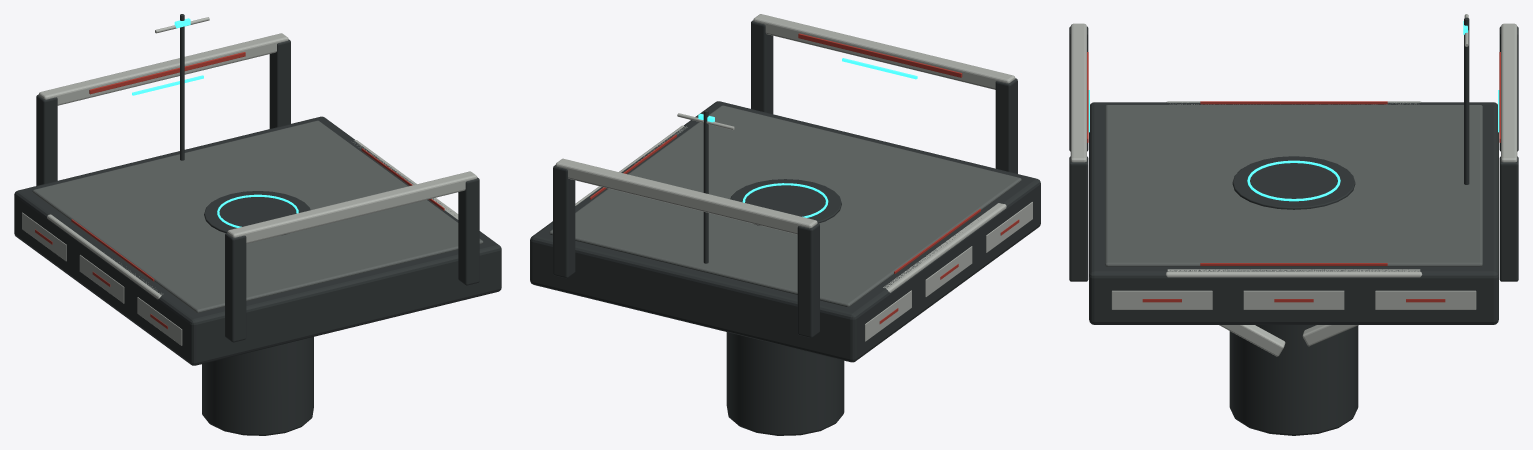
Rendered from kestrel_relay_station.glb.
The picture shows the model from 3 angles, left to right: view 1: azimuth 30°, elevation 25°; view 2: azimuth 150°, elevation 25°; view 3: azimuth 270°, elevation 25°; orthographic projection. The views are drawn at different scales.
Visible parts, largest first — view 1: Graphiteframe, Splitslatedeck, Wornstationceramic, Teammarkings, Neutralrelaymint; view 2: Graphiteframe, Splitslatedeck, Wornstationceramic, Teammarkings, Neutralrelaymint; view 3: Splitslatedeck, Graphiteframe, Wornstationceramic, Teammarkings, Neutralrelaymint.
Boxes of the visible parts, x1=… form: Graphiteframe: x1=14, y1=14, x2=501, y2=435; Splitslatedeck: x1=32, y1=120, x2=483, y2=312; Wornstationceramic: x1=22, y1=17, x2=477, y2=345; Teammarkings: x1=35, y1=52, x2=444, y2=329; Neutralrelaymint: x1=132, y1=18, x2=298, y2=227; Graphiteframe: x1=530, y1=20, x2=1040, y2=435; Splitslatedeck: x1=549, y1=105, x2=1021, y2=307; Wornstationceramic: x1=555, y1=14, x2=1032, y2=341; Teammarkings: x1=590, y1=33, x2=1019, y2=323; Neutralrelaymint: x1=698, y1=58, x2=917, y2=217; Splitslatedeck: x1=1105, y1=105, x2=1482, y2=266; Graphiteframe: x1=1069, y1=17, x2=1518, y2=435; Wornstationceramic: x1=1070, y1=14, x2=1517, y2=356; Teammarkings: x1=1087, y1=52, x2=1500, y2=302; Neutralrelaymint: x1=1088, y1=21, x2=1499, y2=201.
Size of the model in its own units: 14.1 by 14.75 by 15.35.
